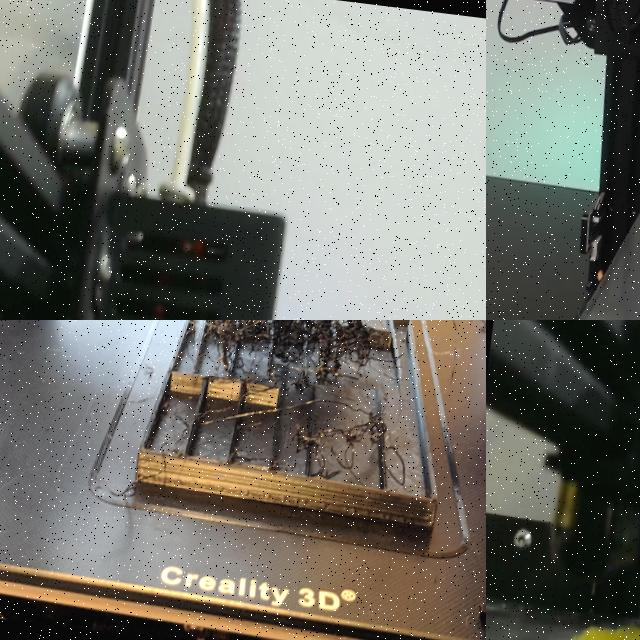spaghetti: (172, 320, 424, 399), (277, 399, 429, 510)
